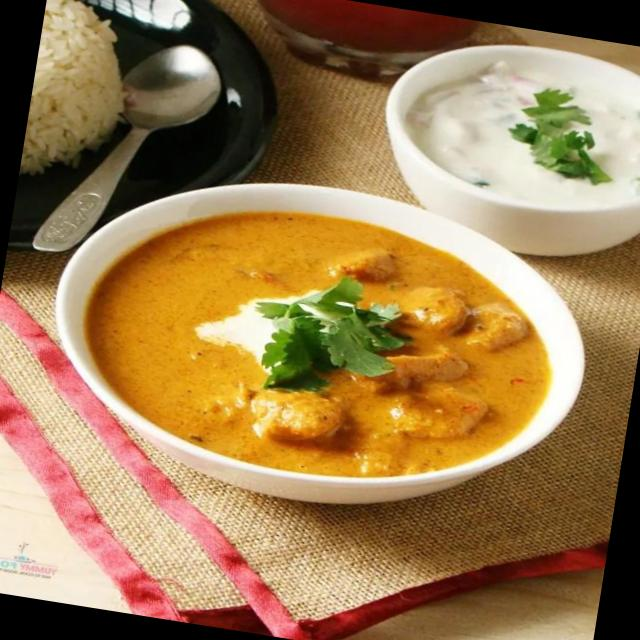chicken: (110, 200, 512, 490)
rice: (421, 49, 640, 210)
